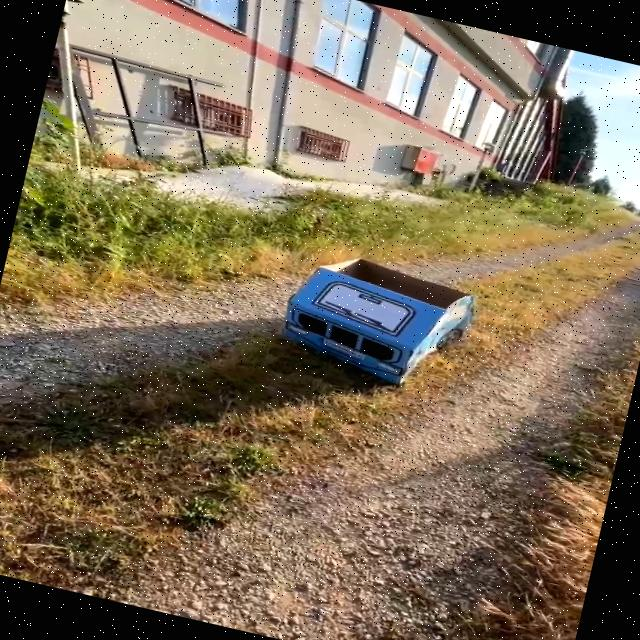blue_car: (206, 209, 532, 438)
